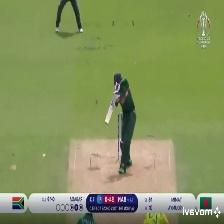ball: (40, 153, 49, 158)
batsman: (100, 70, 140, 174)
